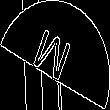M_SW: (32, 22, 78, 88)
